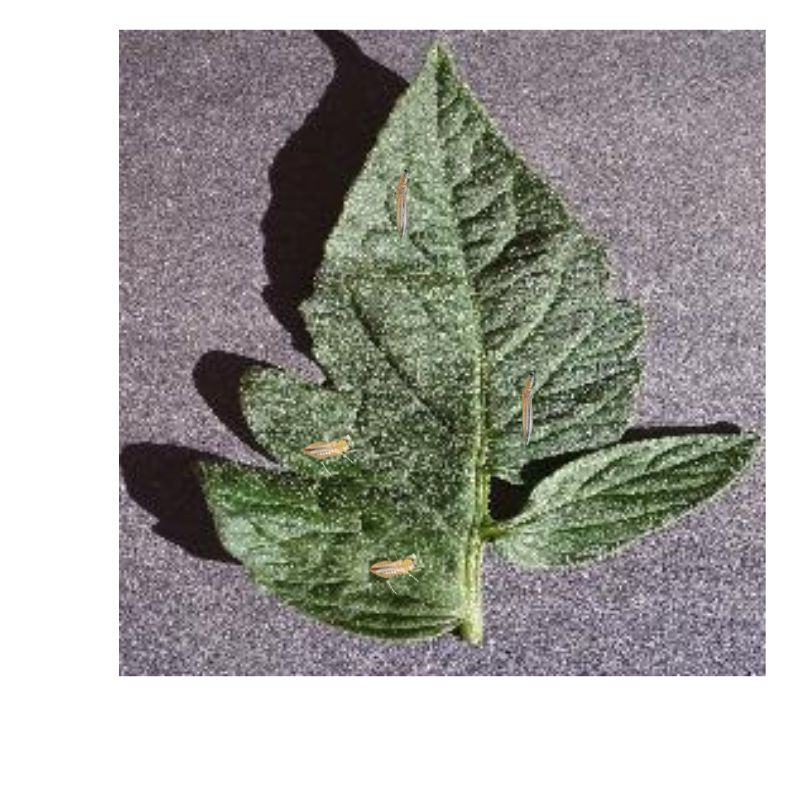thrips: (389, 164, 415, 245), (374, 552, 424, 585), (516, 367, 536, 447), (303, 436, 356, 463)
